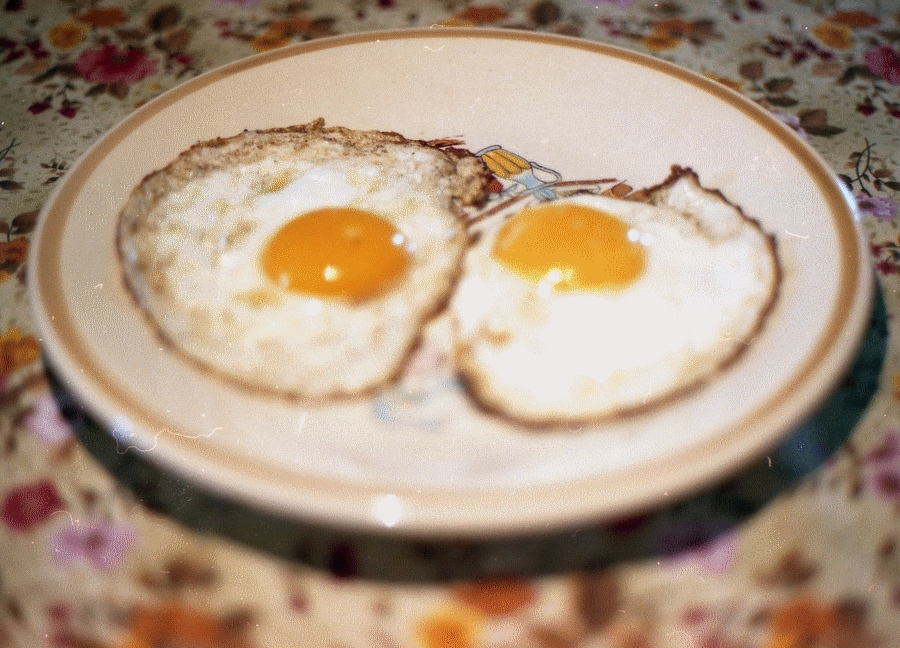fried egg: (114, 124, 471, 393), (460, 190, 746, 405)
